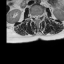CCS_normal: (36, 12, 38, 22)
LFS_normal: (40, 12, 42, 19)
LLS_normal: (38, 12, 40, 21)
RFS_normal: (31, 12, 33, 19)
RLS_normal: (33, 13, 36, 21)
